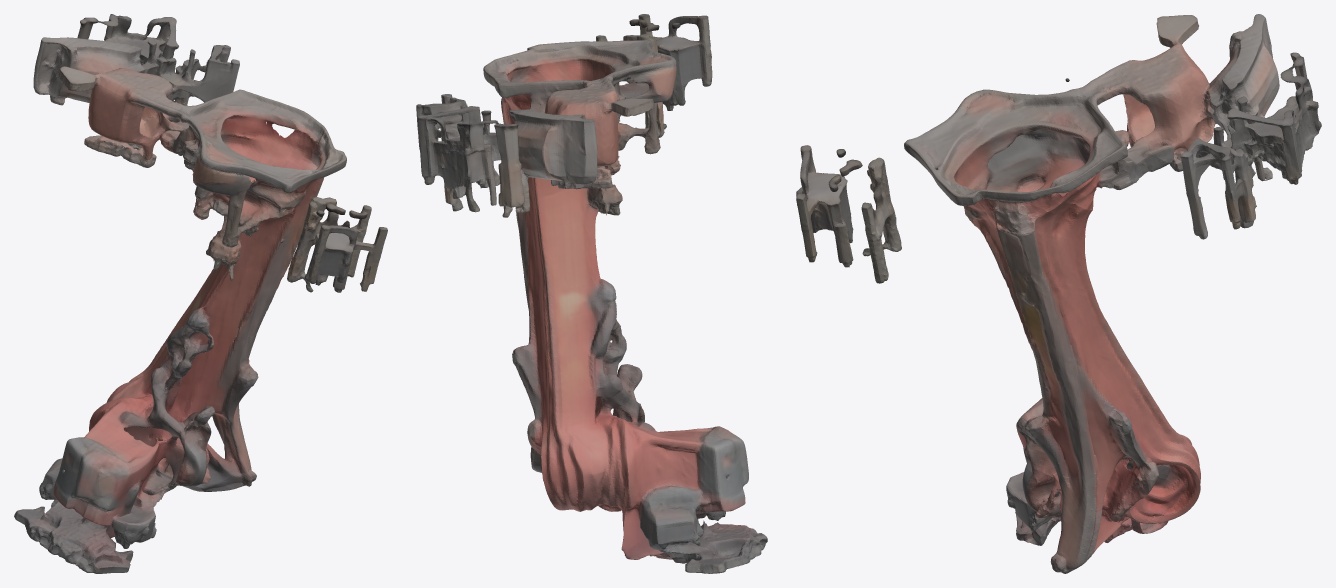
The model's file is robot-v4.glb.
3 renders of one model, left to right at view 1: azimuth 30°, elevation 25°; view 2: azimuth 150°, elevation 25°; view 3: azimuth 270°, elevation 25°, orthographic. The views are drawn at different scales.
Parts seen in each view (by area): view 1: geometry_0; view 2: geometry_0; view 3: geometry_0.
Boxes of the visible parts, left/top/right/bottom form: geometry_0: left=14, top=14, right=387, bottom=573; geometry_0: left=416, top=14, right=767, bottom=573; geometry_0: left=796, top=14, right=1321, bottom=573.
Bounding box in the file's own units: 1.73 × 2.86 × 2.54.
